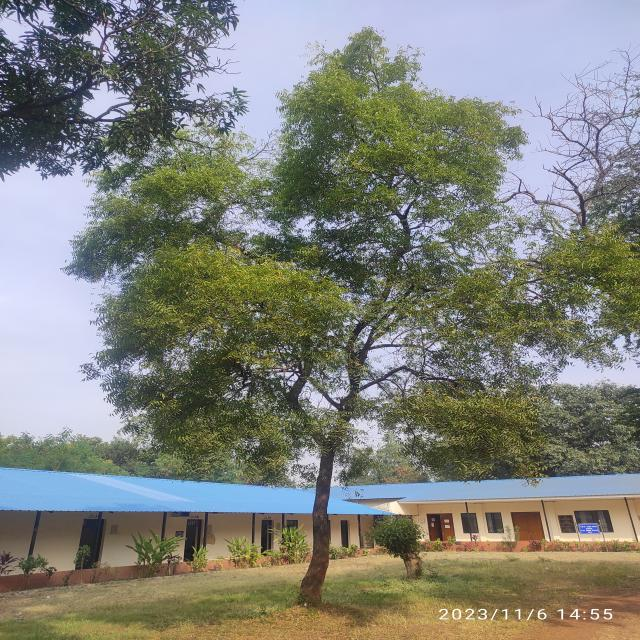Neem Tree: (204, 101, 550, 593)
